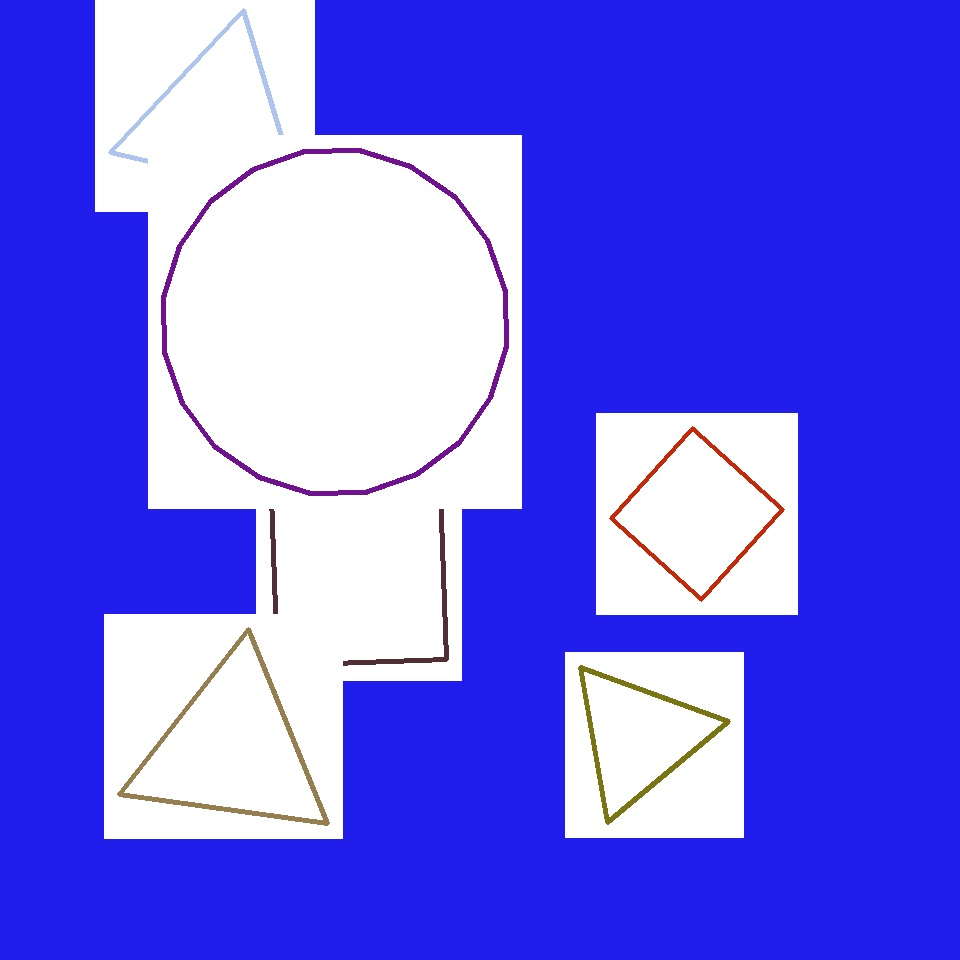circle: (450, 182, 750, 446), (512, 115, 714, 329), (128, 652, 336, 846), (124, 27, 312, 213), (565, 660, 713, 814)
square: (272, 490, 446, 666), (612, 428, 783, 600)
triangle: (163, 150, 506, 494), (548, 316, 854, 622)
